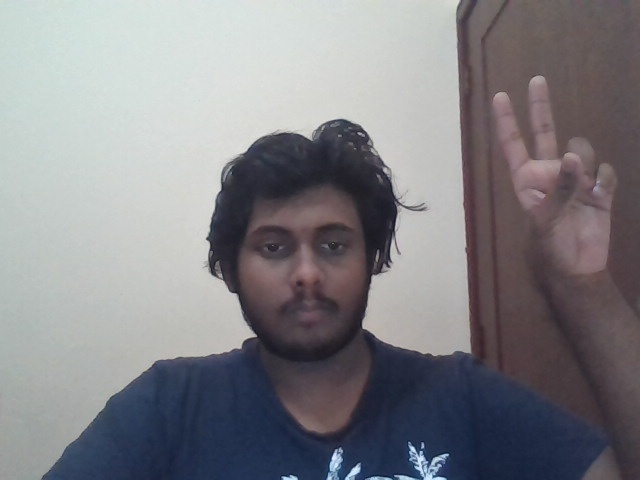peace: (491, 75, 617, 278)
